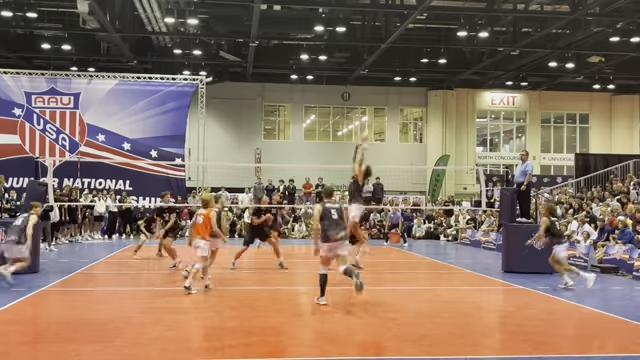Player: (312, 186, 363, 304), (534, 204, 595, 287), (184, 193, 225, 293), (231, 196, 286, 269), (0, 202, 41, 282), (155, 192, 180, 268), (132, 214, 156, 259), (268, 206, 283, 242)
Set: (338, 141, 375, 258)
ball: (360, 134, 371, 143)
